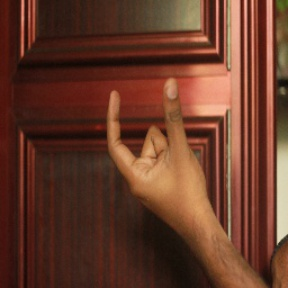U: (100, 75, 201, 207)
